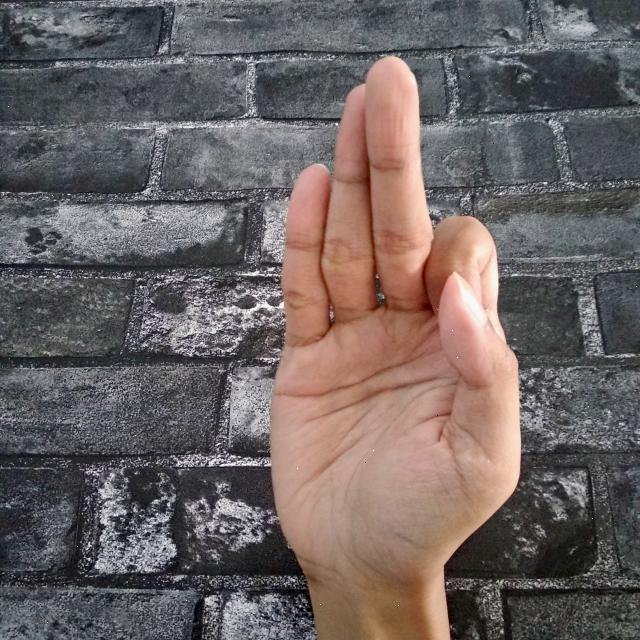F: (264, 54, 527, 640)
